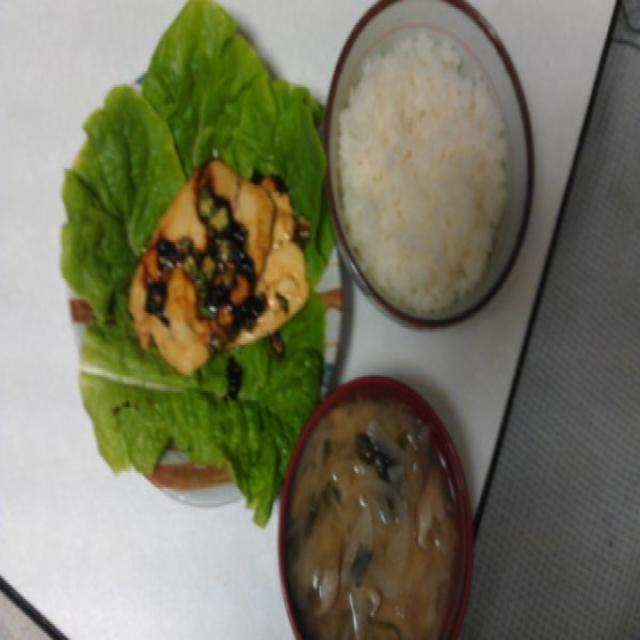Rice: (342, 24, 513, 300)
